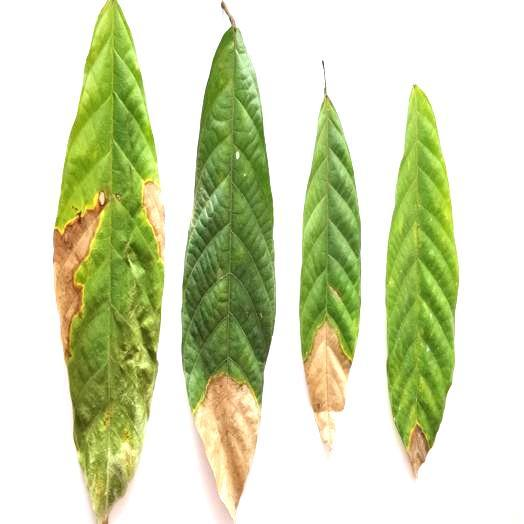Potassium: (53, 0, 163, 523)
